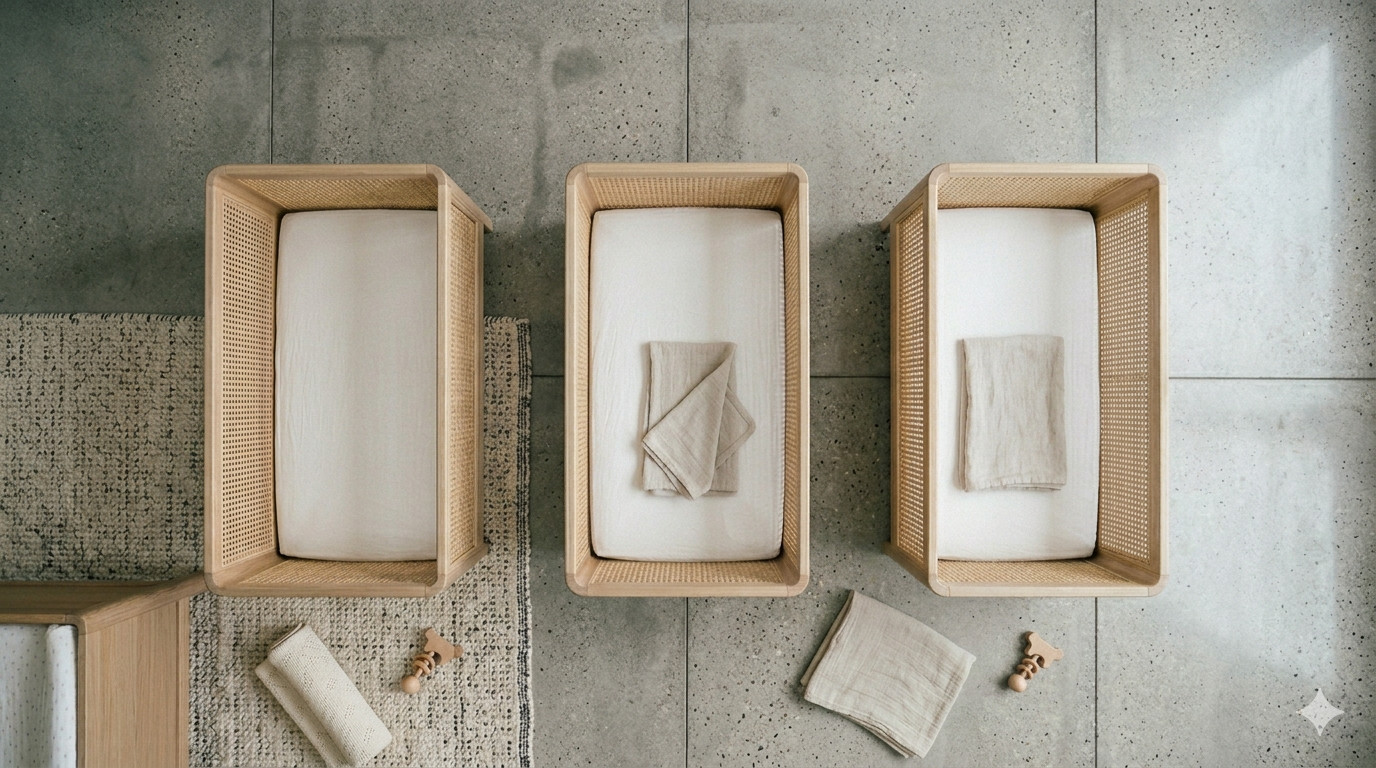crib: (883, 165, 1167, 595), (274, 210, 436, 559), (593, 332, 780, 559)
